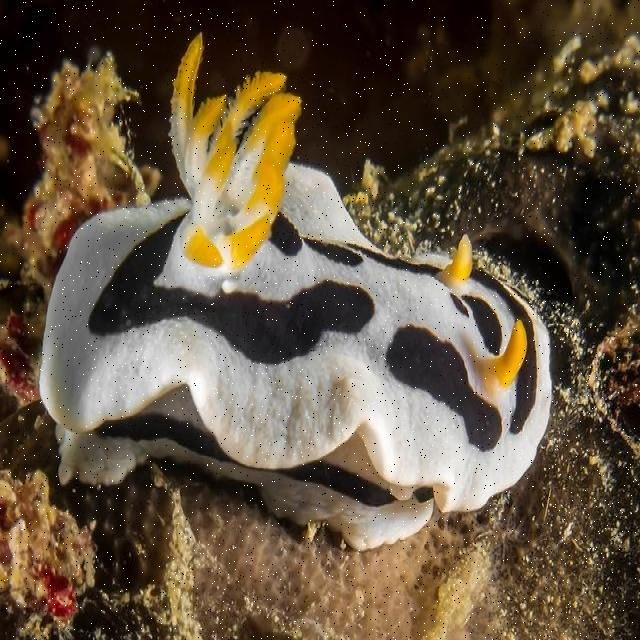reefs: (39, 32, 552, 546)
